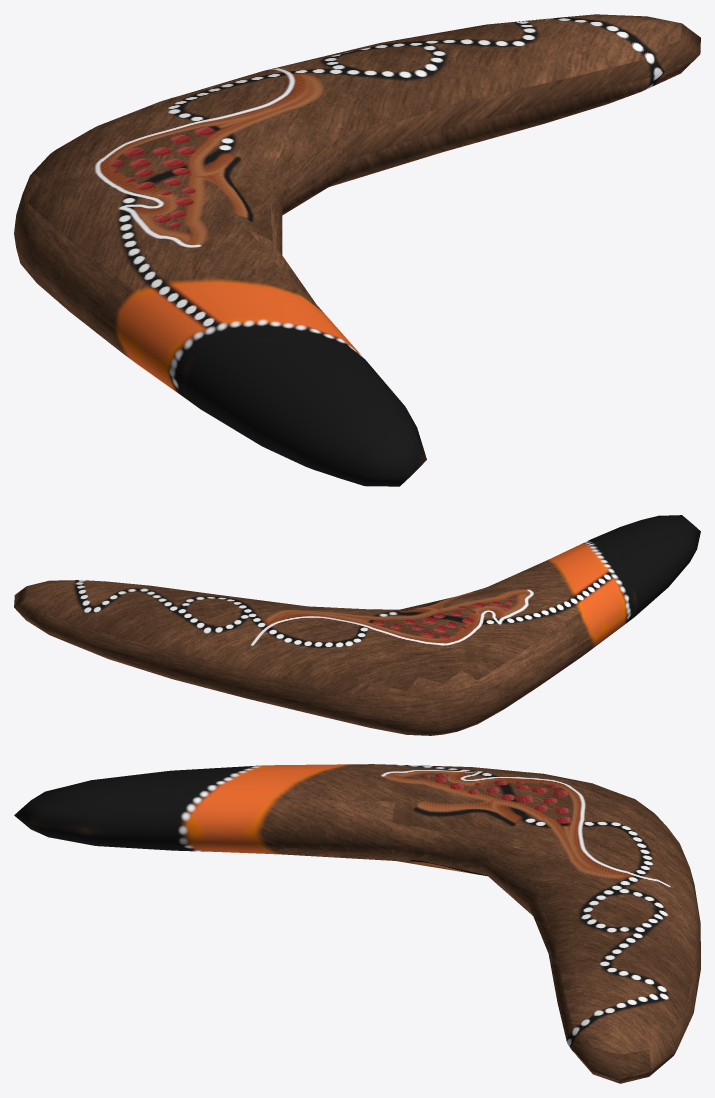
Rendered from boomerang.glb.
The picture shows the model from 3 angles, top to bottom: view 1: azimuth 30°, elevation 25°; view 2: azimuth 150°, elevation 25°; view 3: azimuth 270°, elevation 25°; orthographic projection. The views are drawn at different scales.
Parts seen in each view (by area): view 1: Cube; view 2: Cube; view 3: Cube.
Part boxes in pixels (<box>): Cube: <box>14,14,700,486</box>; Cube: <box>14,515,700,735</box>; Cube: <box>14,764,700,1083</box>.
Bounding box in the file's own units: 0.3397 × 0.0499 × 0.3397.
Materials: 1 (1 with a texture image).
